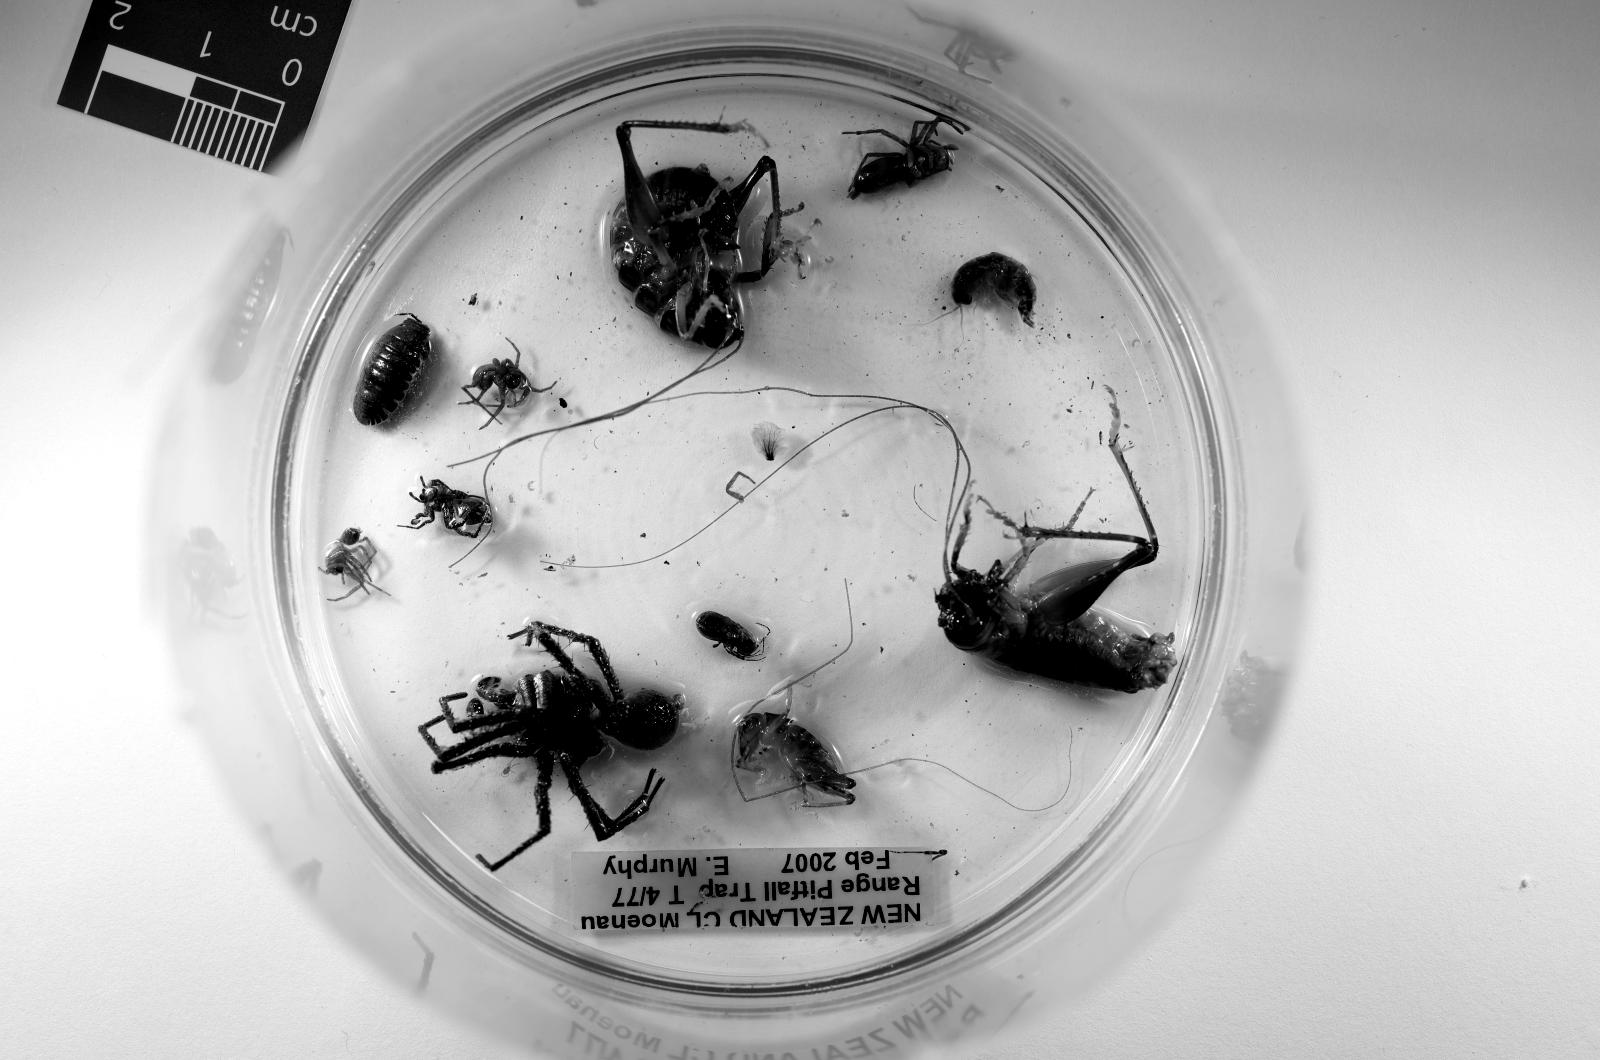amphipoda: (953, 252, 1038, 326)
araneae: (419, 621, 681, 870), (844, 109, 969, 199), (462, 348, 550, 422), (400, 478, 494, 537), (322, 528, 381, 602)
isopoda: (353, 314, 431, 425)
opiliones: (697, 612, 766, 661)
orthoptera: (934, 398, 1175, 693), (609, 118, 809, 373), (731, 683, 856, 814)
